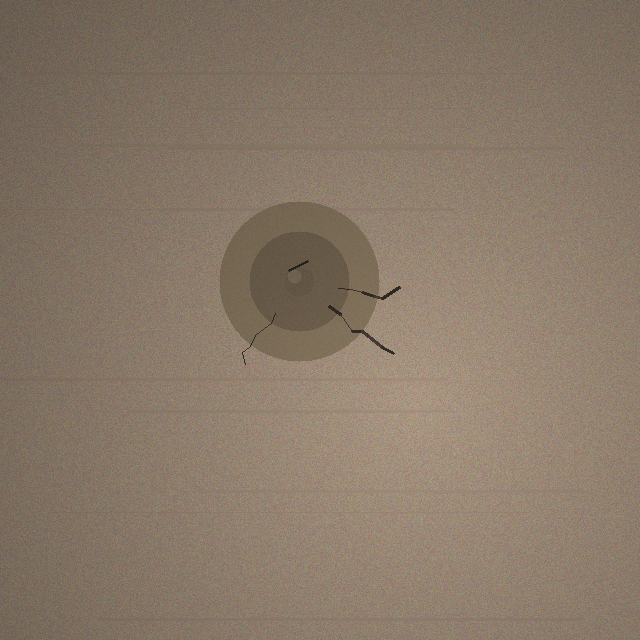crack: (219, 201, 379, 361)
